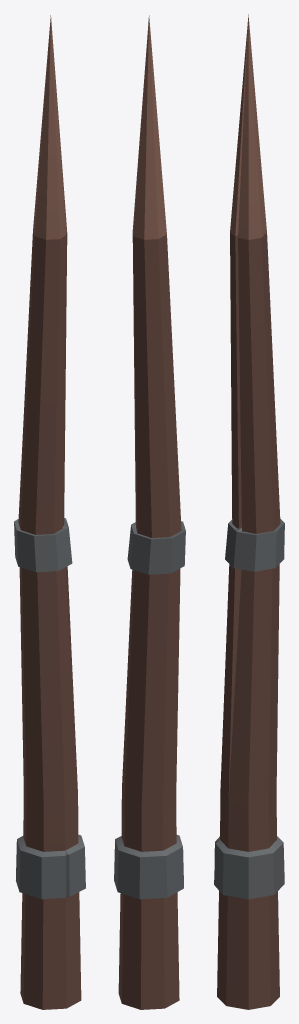
Rendered from SM_Spikes_04.fbx.
The picture shows the model from 3 angles, left to right: view 1: azimuth 30°, elevation 25°; view 2: azimuth 210°, elevation 25°; view 3: azimuth 270°, elevation 25°; orthographic projection.
Parts seen in each view (by area): view 1: Spikes_04; view 2: Spikes_04; view 3: Spikes_04.
Part boxes in pixels (left/top/right/bottom): Spikes_04: left=14, top=15, right=85, bottom=1009; Spikes_04: left=114, top=15, right=185, bottom=1009; Spikes_04: left=214, top=14, right=284, bottom=1009.
Bounding box in the file's own units: 9.73 × 145 × 9.52.
